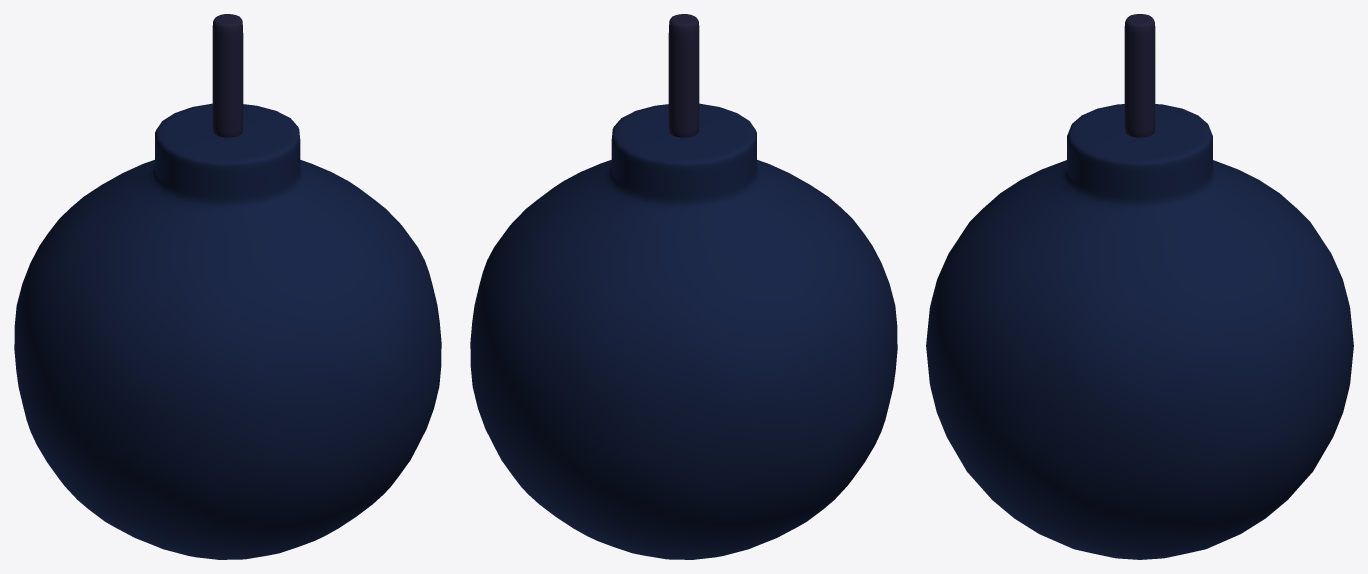
File: bomb.fbx
3 views of the same model, side by side, from view 1: azimuth 30°, elevation 25°; view 2: azimuth 150°, elevation 25°; view 3: azimuth 270°, elevation 25° (orthographic).
Parts seen in each view (by area): view 1: Icosphere, Icosphere.001; view 2: Icosphere, Icosphere.001; view 3: Icosphere, Icosphere.001.
Part boxes in pixels (bbox=[...]): Icosphere: bbox=[14, 103, 441, 559]; Icosphere.001: bbox=[212, 14, 243, 137]; Icosphere: bbox=[470, 103, 897, 559]; Icosphere.001: bbox=[668, 14, 699, 137]; Icosphere: bbox=[926, 104, 1353, 559]; Icosphere.001: bbox=[1124, 14, 1155, 137].
Size of the model in its own units: 185 by 249 by 185.
